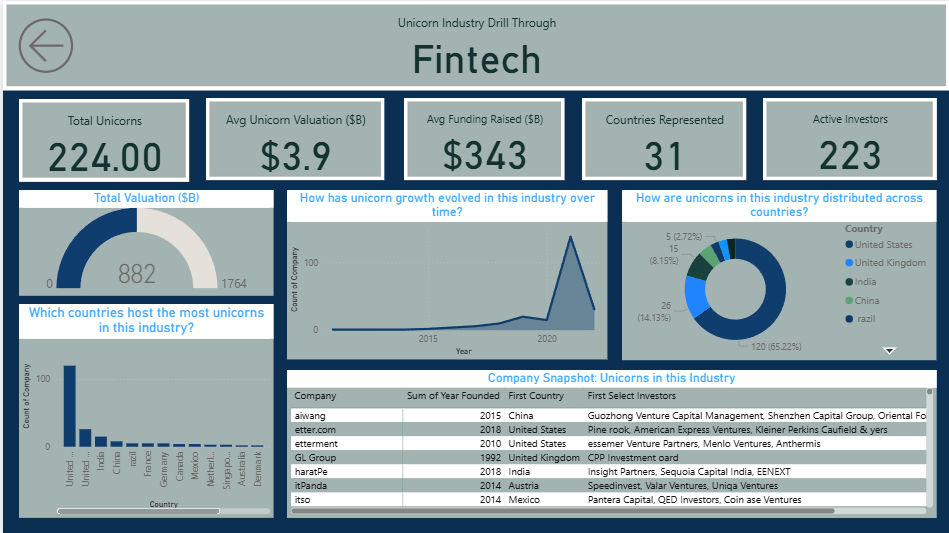

The page's visual inventory and layout, read from the dashboard file:
{"tool":"powerbi","page":{"name":"Industry","canvas":[1280,720],"ordinal":1},"visuals":[{"type":"cardVisual","fields":{"Data":["Min(Unicorn_Companies (4).Industry)"]},"box":[0,0,1279.4,120.6],"z":0},{"type":"actionButton","box":[11.7,13.3,91.7,93.3],"z":1000},{"type":"cardVisual","fields":{"Data":["CountNonNull(Unicorn_Companies (4).Company)"]},"box":[21.7,131.9,230.4,111.6],"z":2000},{"type":"cardVisual","fields":{"Data":["Avg(Unicorn_Companies (4).Valuation_ in_billion)"]},"box":[274.6,131.7,241.3,111.1],"z":3000},{"type":"cardVisual","fields":{"Data":["Count(Unicorn_Companies (4).Select Investors)"]},"box":[1027,131.7,234.9,111.1],"z":4000},{"type":"cardVisual","fields":{"Data":["Count(Unicorn_Companies (4).Country)"]},"box":[782.5,131.7,222.2,111.1],"z":5000},{"type":"lineClusteredColumnComboChart","title":"Which countries host the most unicorns in this industry?","fields":{"Category":["Unicorn_Companies (4).Country"],"Y":["CountNonNull(Unicorn_Companies (4).Company)"]},"box":[22.2,409.5,344.4,288.9],"z":6000},{"type":"gauge","title":"Total Valuation ($B)","fields":{"Y":["Sum(Unicorn_Companies (4).Valuation_ in_billion)"]},"box":[22.2,255.6,344.4,142.9],"z":7000},{"type":"areaChart","title":"How has unicorn growth evolved in this industry over time?","fields":{"Category":["Unicorn_Companies (4).Date Joined.Variation.Date Hierarchy.Year","Unicorn_Companies (4).Date Joined.Variation.Date Hierarchy.Quarter","Unicorn_Companies (4).Date Joined.Variation.Date Hierarchy.Month","Unicorn_Companies (4).Date Joined.Variation.Date Hierarchy.Day"],"Y":["CountNonNull(Unicorn_Companies (4).Company)"]},"box":[384.1,255.6,433.3,228.6],"z":8000},{"type":"pivotTable","title":"Company Snapshot: Unicorns in this Industry","fields":{"Rows":["Unicorn_Companies (4).Company"],"Values":["Sum(Unicorn_Companies (4).Year Founded)","Min(Unicorn_Companies (4).Country)","Min(Unicorn_Companies (4).Select Investors)"]},"box":[384.1,498.4,877.8,200],"z":9000},{"type":"donutChart","title":"How are unicorns in this industry distributed across countries?","fields":{"Category":["Unicorn_Companies (4).Country"],"Y":["CountNonNull(Unicorn_Companies (4).Company)"]},"box":[836.5,255.6,425.4,230.2],"z":10000},{"type":"cardVisual","fields":{"Data":["Avg(Unicorn_Companies (4).Funding_1)"]},"box":[541.3,131.7,217.5,111.1],"z":11000}]}

Visuals, with their boxes in screenshot pixels (x1, y1, x2, y2), scaled from the page's 1280x720 canvas onto the 949x533 screenshot:
cardVisual - Min(Unicorn_Companies (4).Industry): detection(0, 0, 948, 89)
actionButton: detection(9, 10, 77, 79)
cardVisual - CountNonNull(Unicorn_Companies (4).Company): detection(16, 98, 187, 180)
cardVisual - Avg(Unicorn_Companies (4).Valuation_ in_billion): detection(204, 97, 382, 180)
cardVisual - Count(Unicorn_Companies (4).Select Investors): detection(761, 97, 936, 180)
cardVisual - Count(Unicorn_Companies (4).Country): detection(580, 97, 745, 180)
"Which countries host the most unicorns in this industry?" lineClusteredColumnComboChart: detection(16, 303, 272, 517)
"Total Valuation ($B)" gauge: detection(16, 189, 272, 295)
"How has unicorn growth evolved in this industry over time?" areaChart: detection(285, 189, 606, 358)
"Company Snapshot: Unicorns in this Industry" pivotTable: detection(285, 369, 936, 517)
"How are unicorns in this industry distributed across countries?" donutChart: detection(620, 189, 936, 360)
cardVisual - Avg(Unicorn_Companies (4).Funding_1): detection(401, 97, 563, 180)
